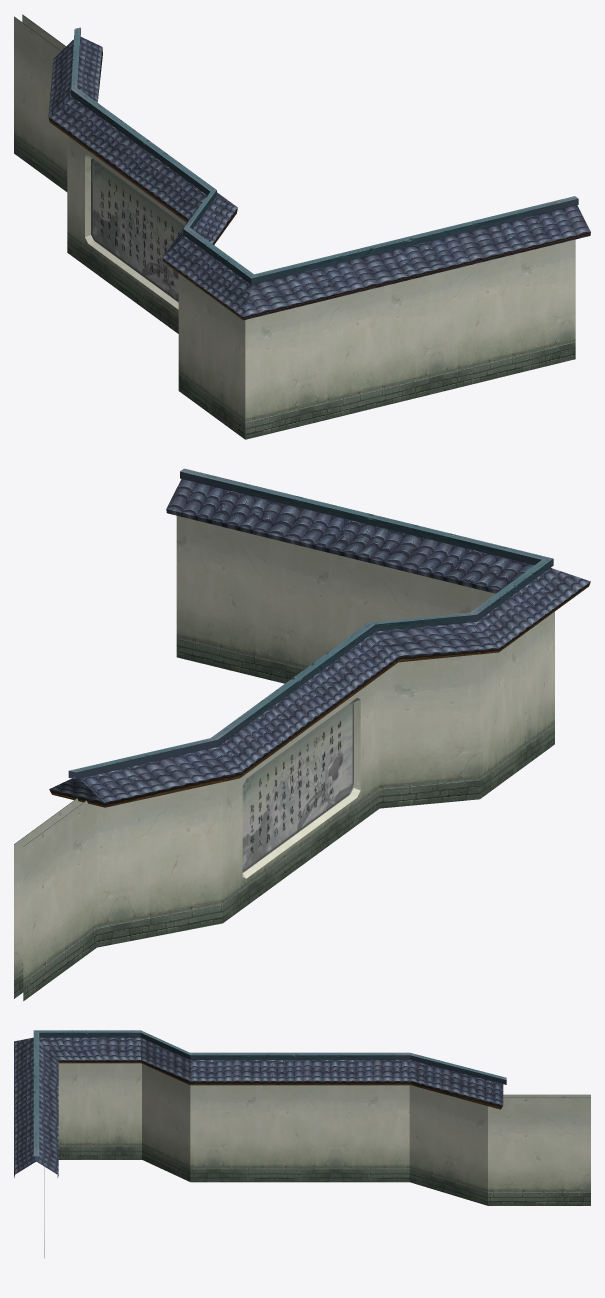
Rendered from szc_building_11a_qiang.FBX.
The picture shows the model from 3 angles, top to bottom: view 1: azimuth 30°, elevation 25°; view 2: azimuth 150°, elevation 25°; view 3: azimuth 270°, elevation 25°; orthographic projection. The views are drawn at different scales.
Visible parts, largest first — view 1: szc_building_11a_qiang; view 2: szc_building_11a_qiang; view 3: szc_building_11a_qiang.
Boxes of the visible parts, bbox=[...] form: szc_building_11a_qiang: bbox=[14, 14, 590, 439]; szc_building_11a_qiang: bbox=[14, 468, 590, 1001]; szc_building_11a_qiang: bbox=[14, 1030, 590, 1258].
Size of the model in its own units: 7.32 by 3.26 by 13.34.
